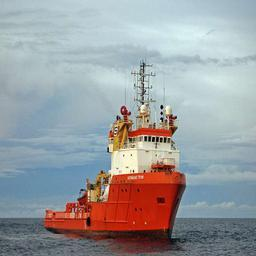Ship: (40, 60, 191, 242)
